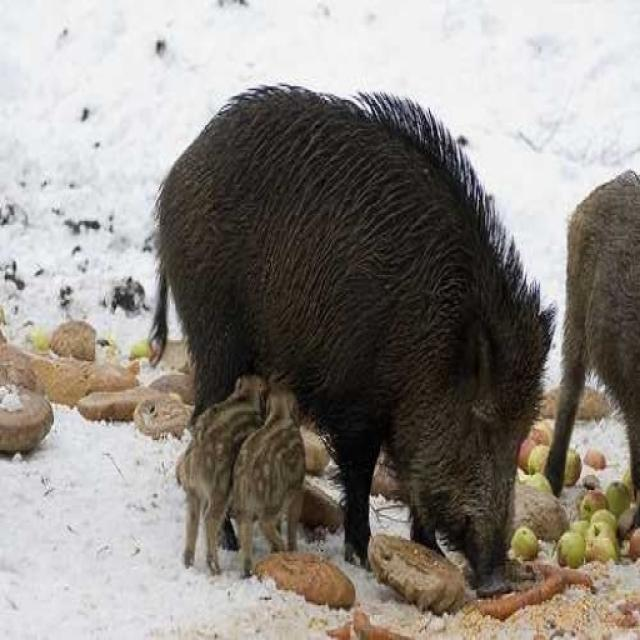pig: (129, 42, 551, 587), (234, 383, 318, 581), (163, 377, 248, 549)
